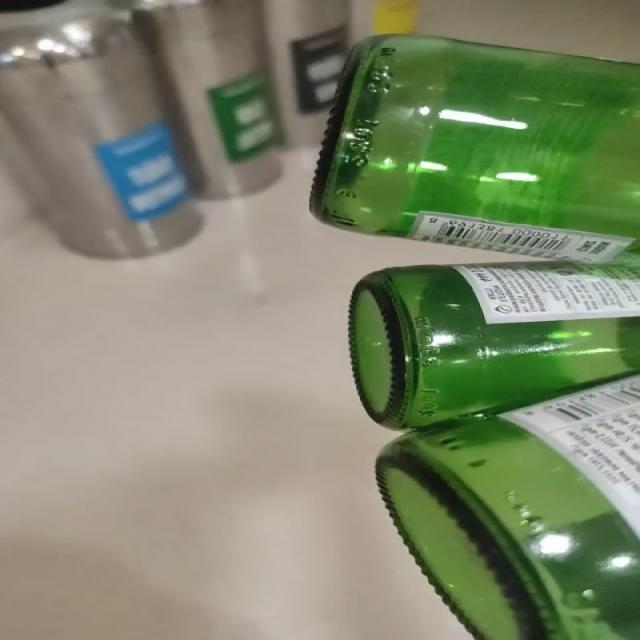Glass: (311, 35, 639, 640)
